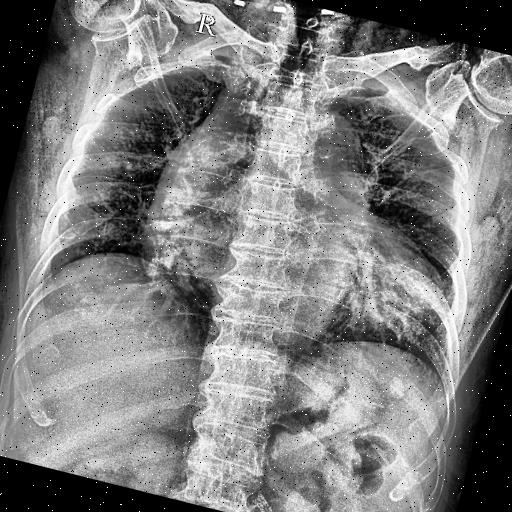0- Aortic enlargement: (172, 70, 401, 216)
3- Cardiomegaly: (113, 150, 476, 388), (106, 162, 492, 376), (116, 180, 458, 380)
